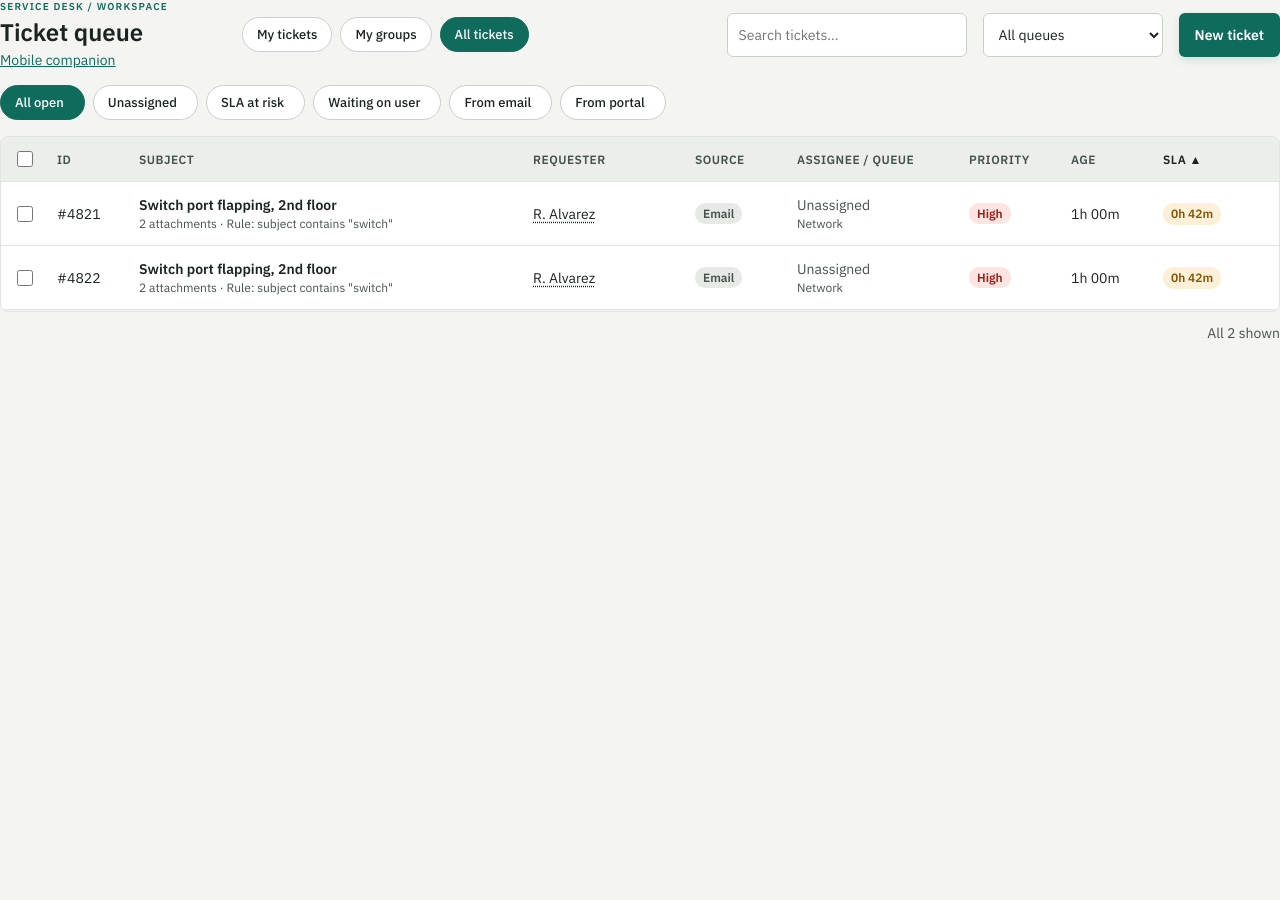
Test: permission revocation stops the batch and preserves the failed selection
The image size is (1280, 900).
Step 1. Click the checkbox named "Select #4821" → point(25, 214), box [17,206,33,222]
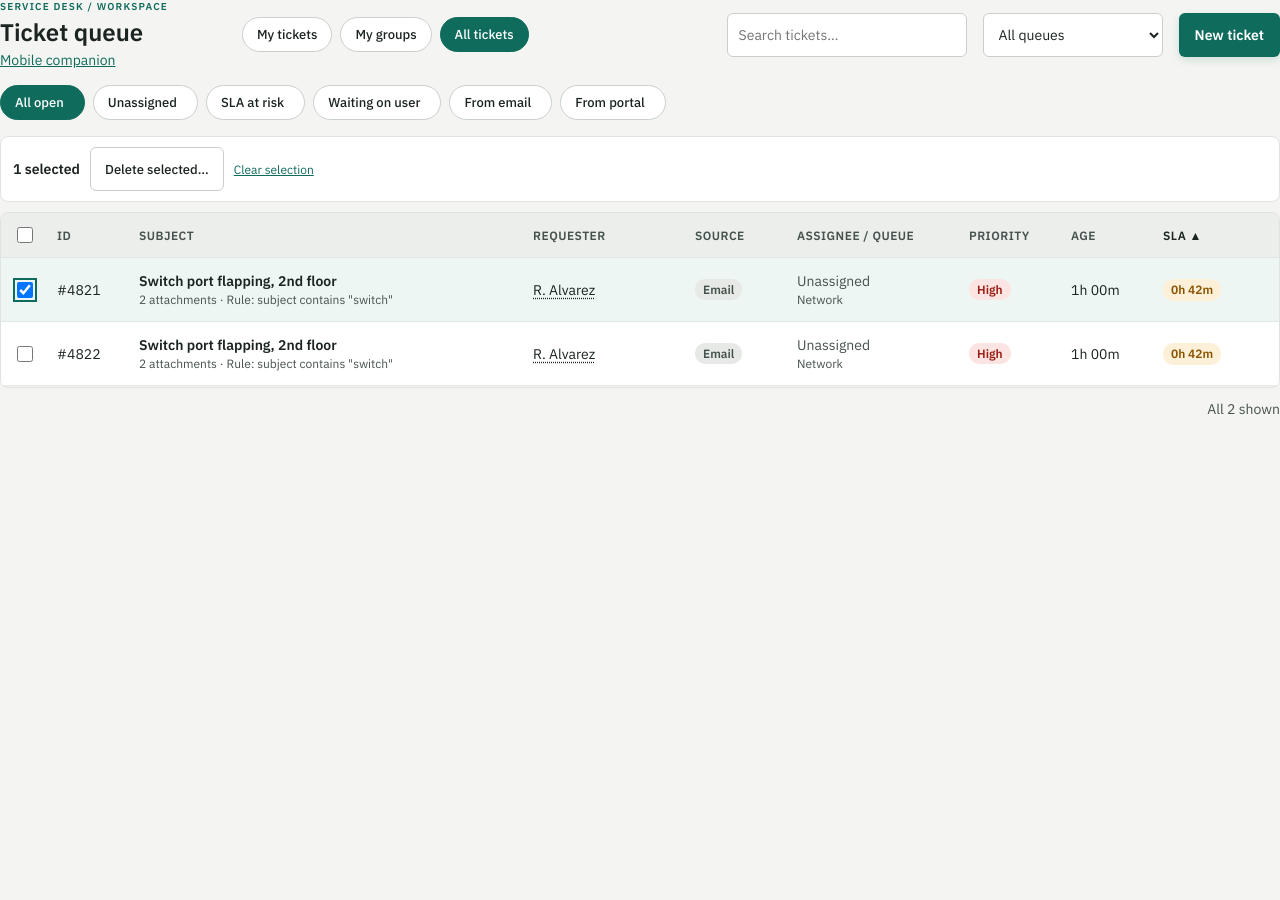
Step 2. Click the checkbox named "Select #4822" → point(25, 354), box [17,346,33,362]
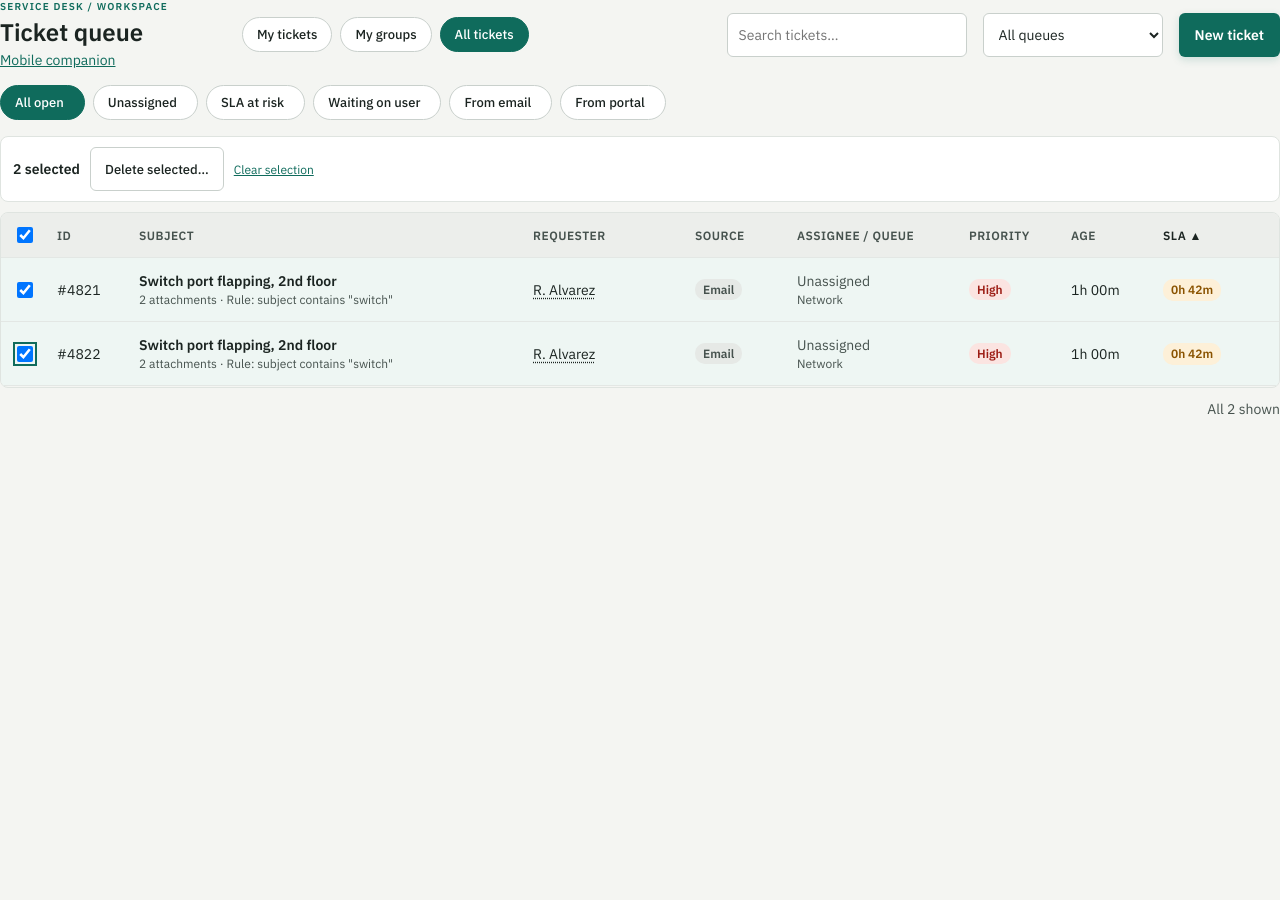
Step 3. Click the button "Delete selected…" → point(157, 169), box [90,147,224,191]
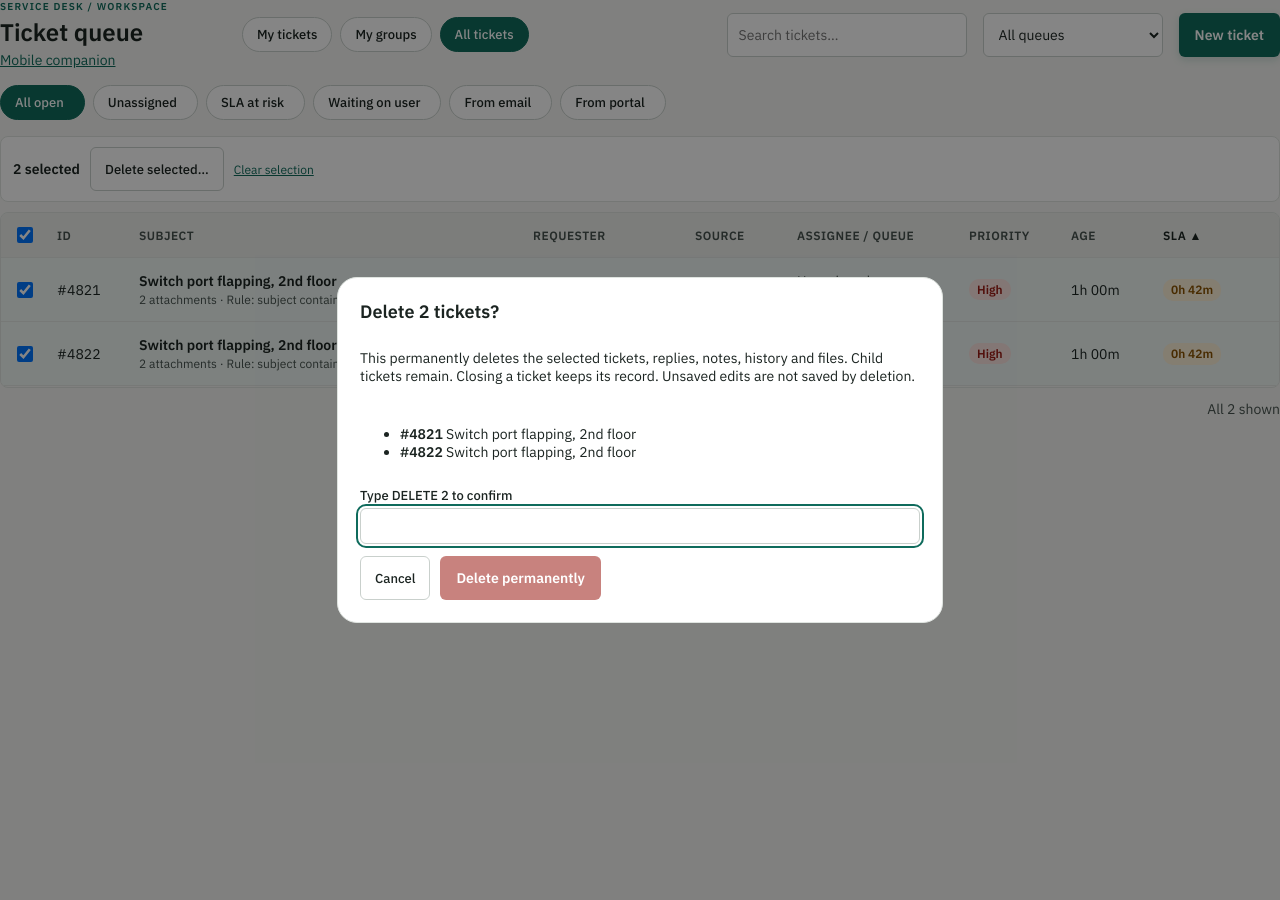
Step 4. Type "DELETE 2" into the field labelled "Type DELETE 2 to confirm" → point(640, 526), box [360,508,920,544]
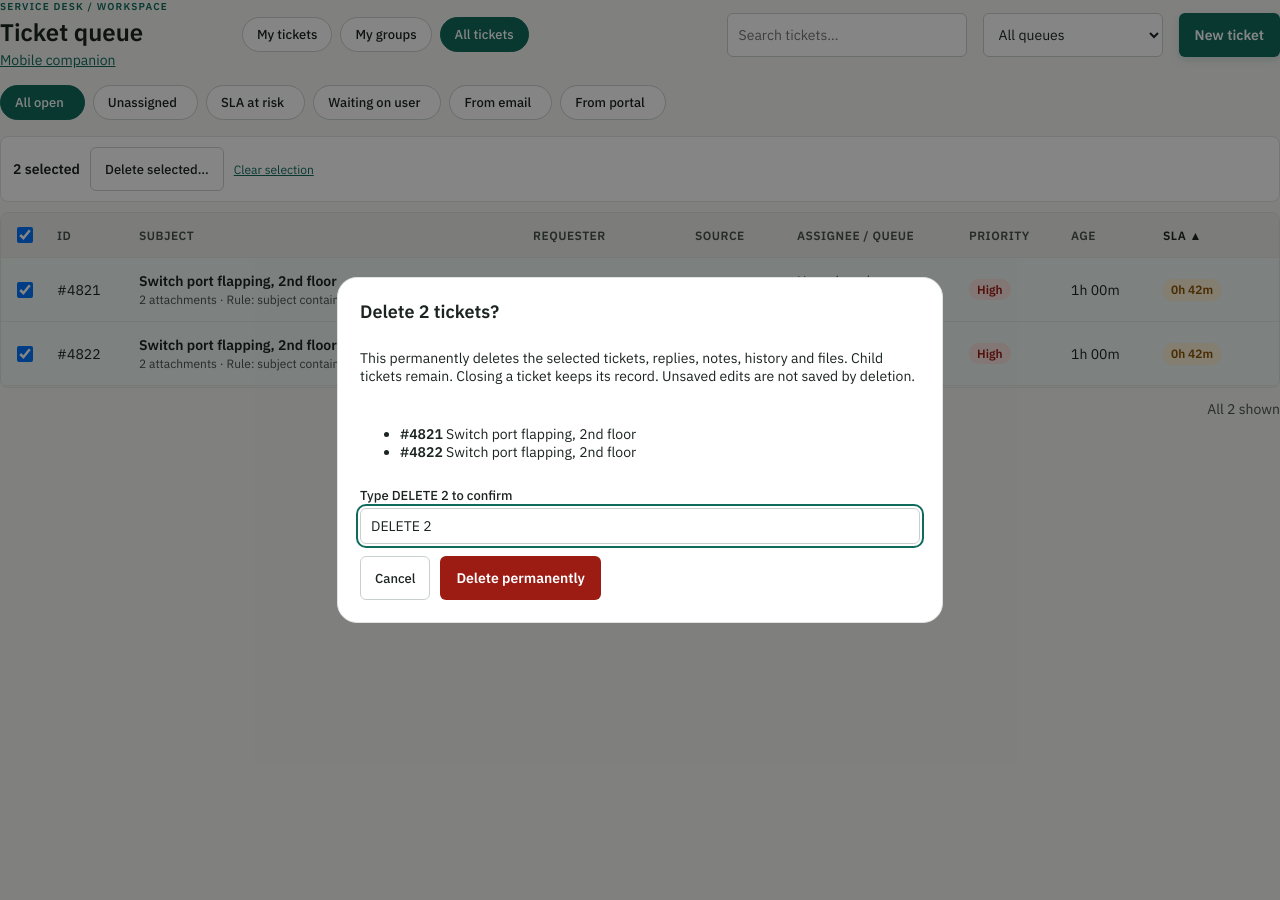
Step 5. Click the button "Delete permanently" → point(521, 578), box [440,556,601,600]
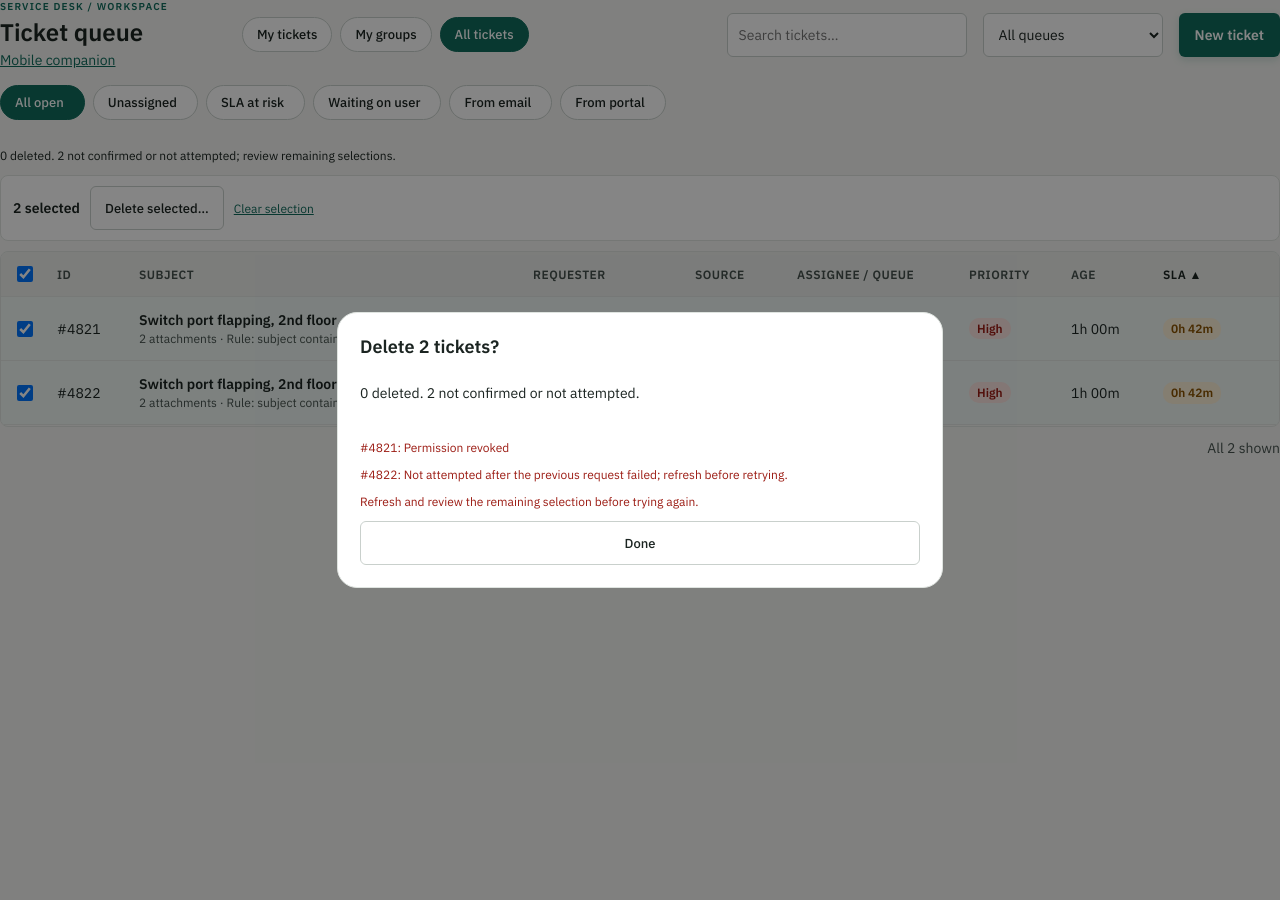
Now the checkbox named "Select #4821" is checked, box [17,320,33,336]
Now the message that starts with "Permission revoked" is shown, box [404,440,509,455]
